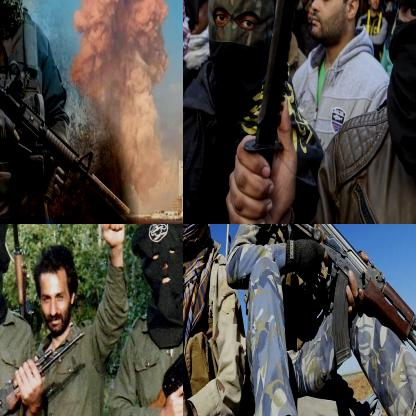knife: (235, 0, 314, 223)
rifle: (261, 224, 415, 415), (0, 49, 133, 223), (0, 326, 90, 415), (131, 259, 182, 415), (5, 224, 34, 320)
